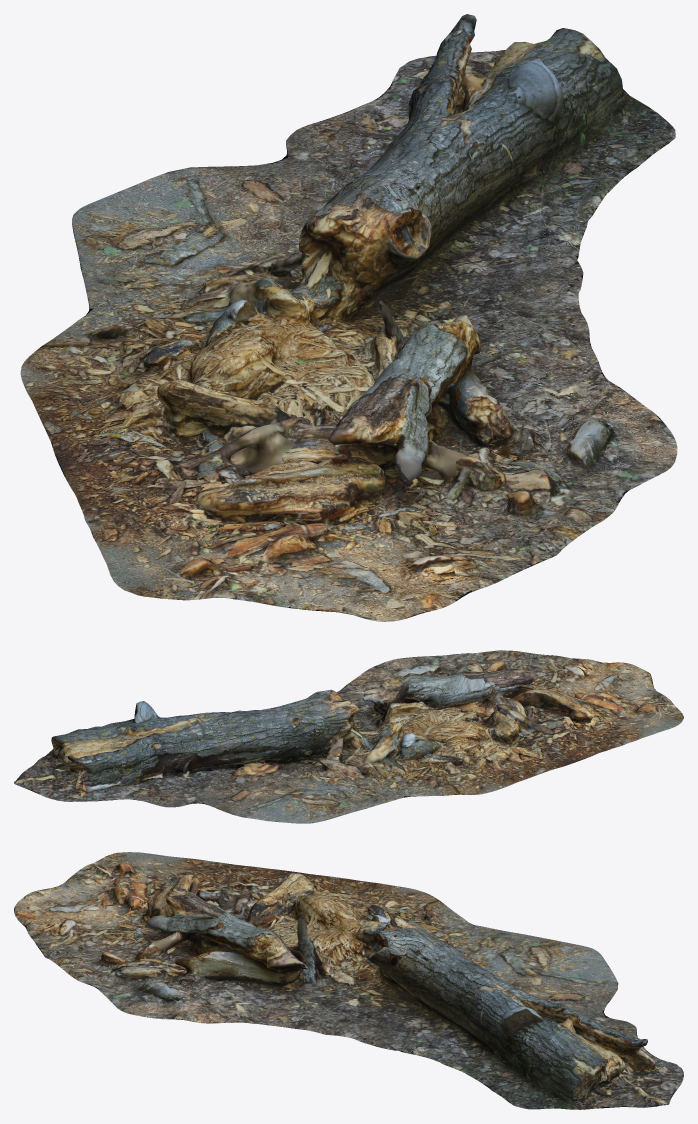
Rendered from branch.glb.
The picture shows the model from 3 angles, top to bottom: view 1: azimuth 30°, elevation 25°; view 2: azimuth 150°, elevation 25°; view 3: azimuth 270°, elevation 25°; orthographic projection. The views are drawn at different scales.
Parts seen in each view (by area): view 1: branch; view 2: branch; view 3: branch.
Part boxes in pixels (x1,y1,x2,y2): branch: [20, 14, 677, 621]; branch: [14, 650, 683, 823]; branch: [14, 852, 683, 1109].
Bounding box in the file's own units: 0.905 × 0.1075 × 1.
1 material, 1 textured.
